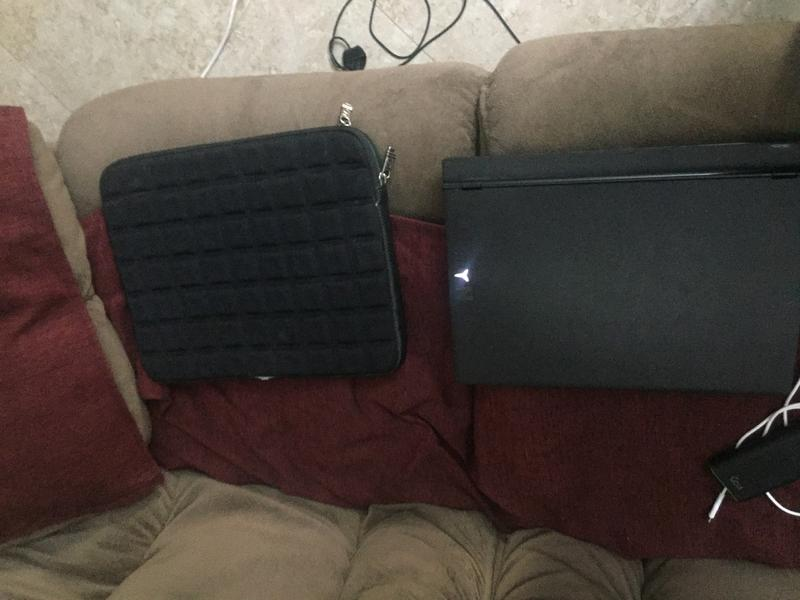cover: (96, 102, 414, 387)
